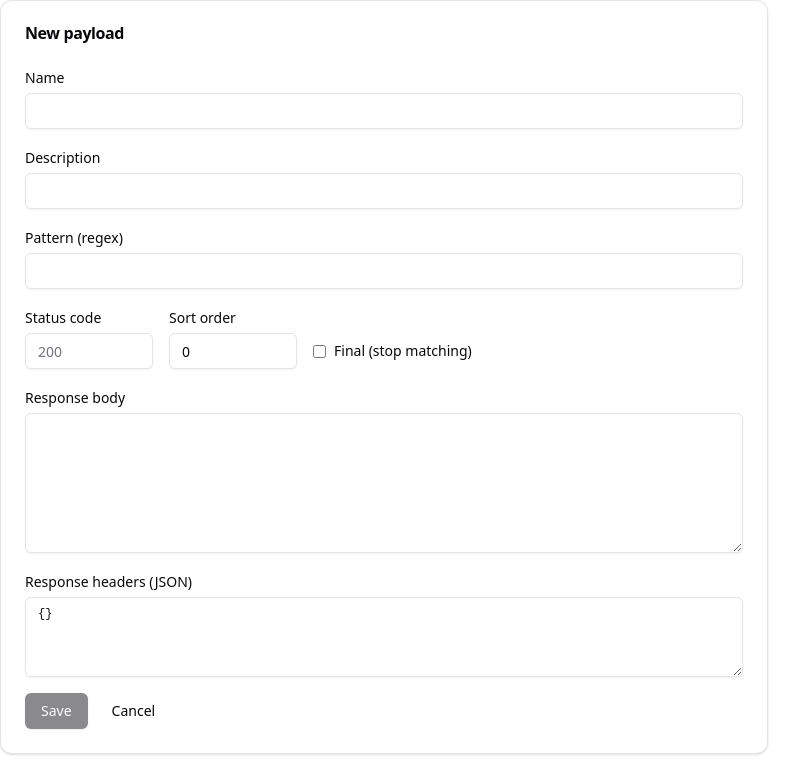
Test case: PayloadEditor › blocks saving on an invalid regex
Type "p1" into the field labelled "Name" at coordinates (384, 111), box [25,93,743,129]
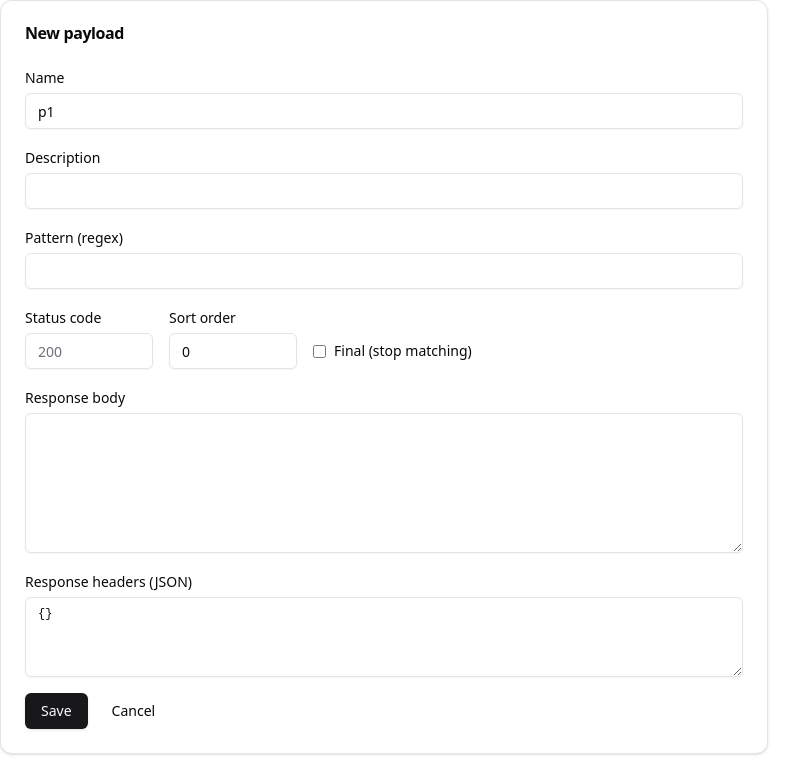
Type "[" into the field labelled "Pattern (regex)" at coordinates (384, 271), box [25,253,743,289]
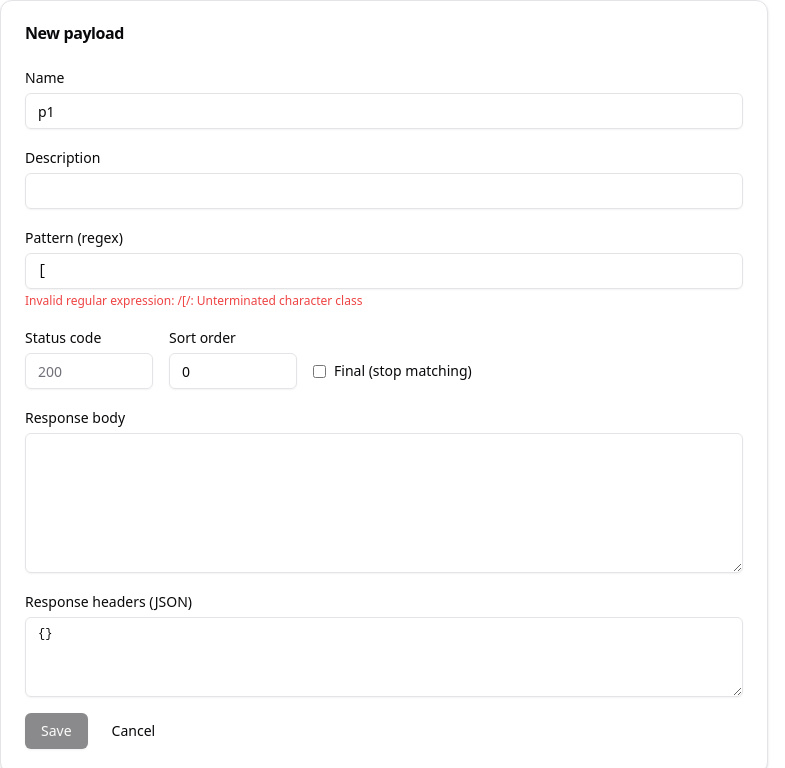
Expected: the button "Save" is disabled, [25,713,88,749]
